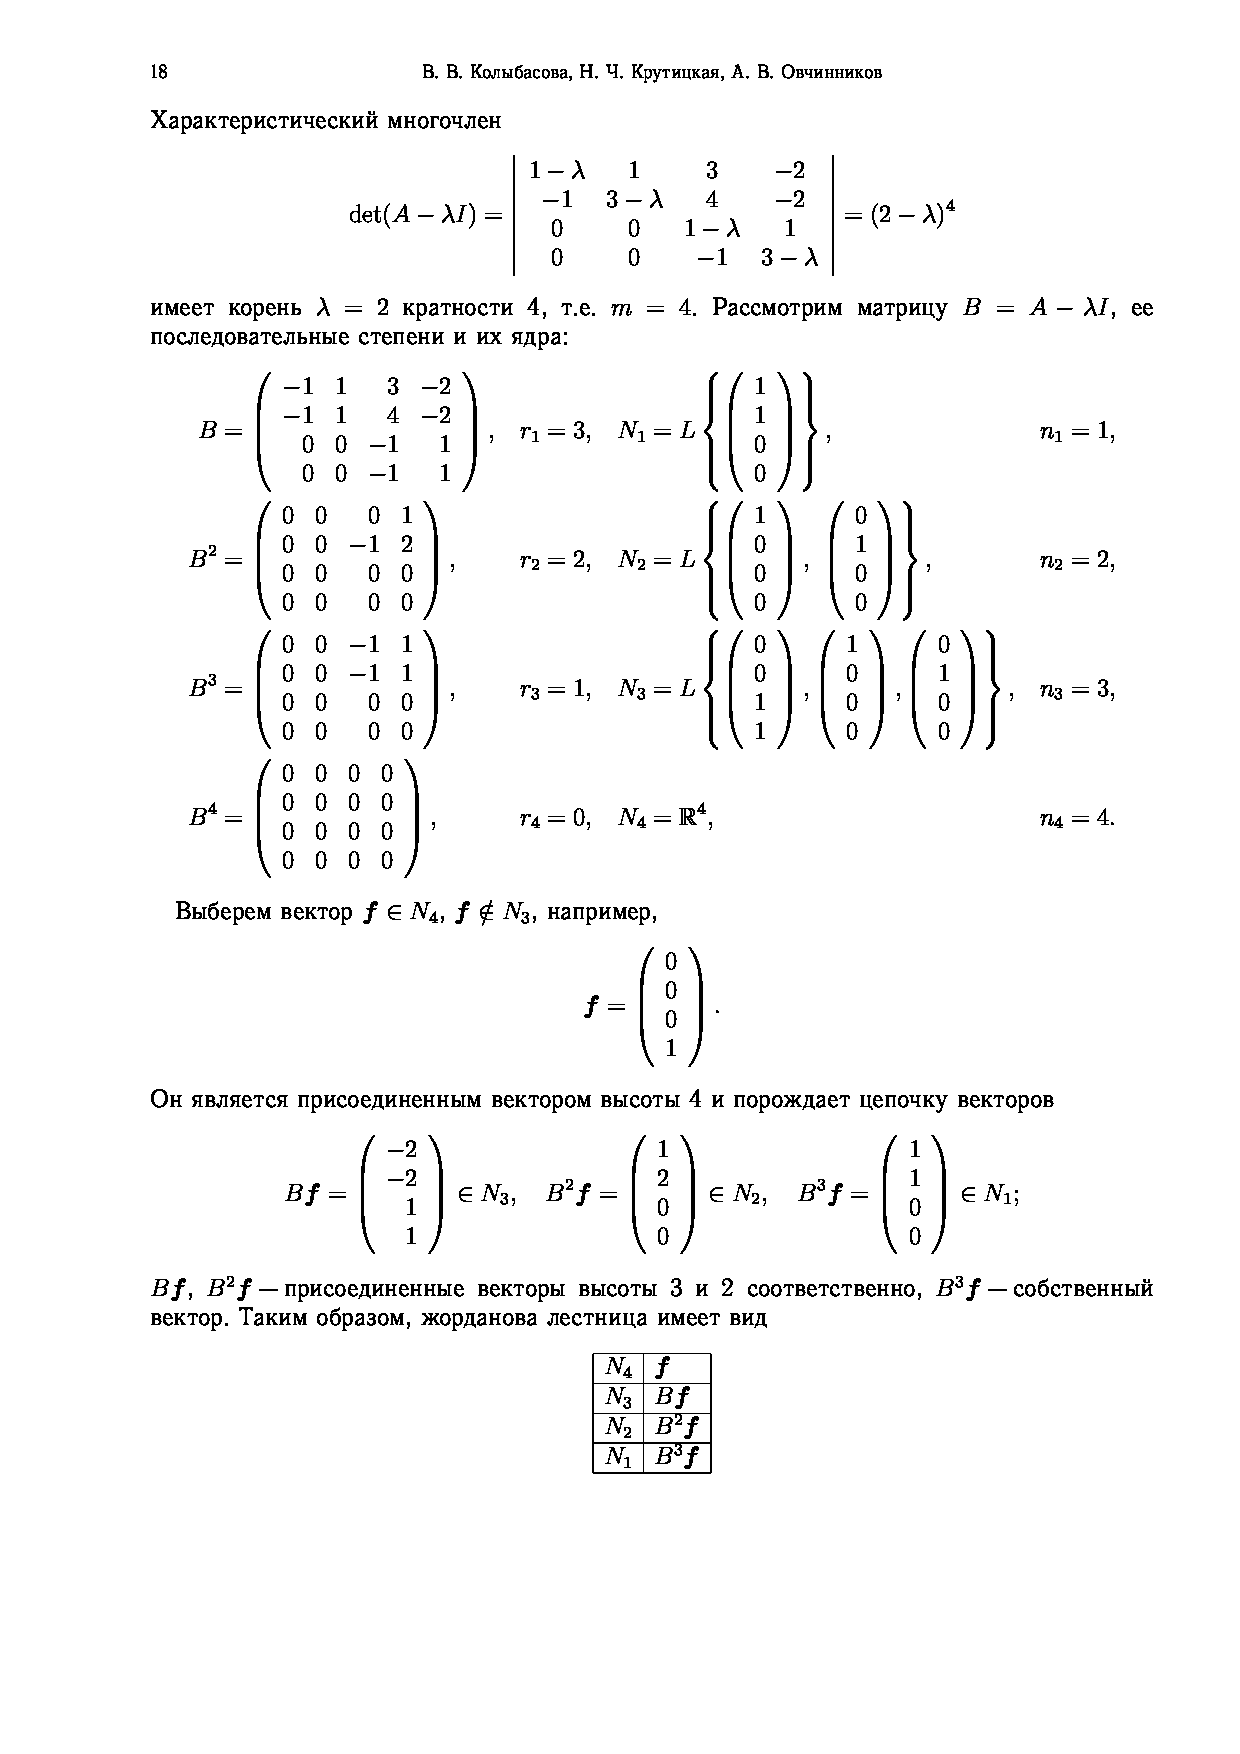lMatrix: (510, 149, 839, 285)
pMatrix: (255, 366, 480, 498), (251, 627, 444, 756), (254, 505, 439, 627), (255, 758, 421, 884), (360, 1133, 448, 1266), (823, 621, 891, 760), (726, 366, 794, 501), (637, 943, 706, 1078), (727, 627, 797, 756), (726, 497, 793, 627), (629, 1131, 696, 1261), (880, 1135, 950, 1257), (911, 624, 976, 756), (828, 501, 890, 621)
